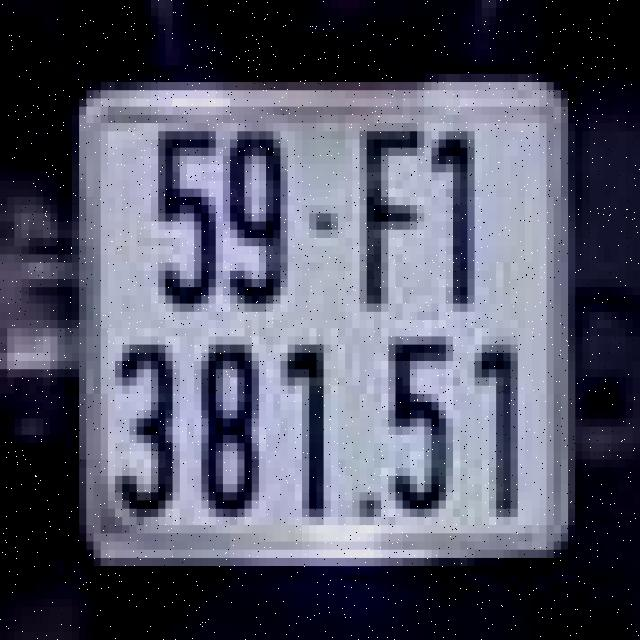1: (464, 332, 557, 530), (277, 332, 356, 521), (428, 131, 500, 320), (194, 341, 266, 521)
3: (108, 332, 187, 538)
5: (370, 324, 471, 529), (148, 123, 220, 328)
9: (219, 127, 306, 308)
F: (356, 123, 428, 312)
